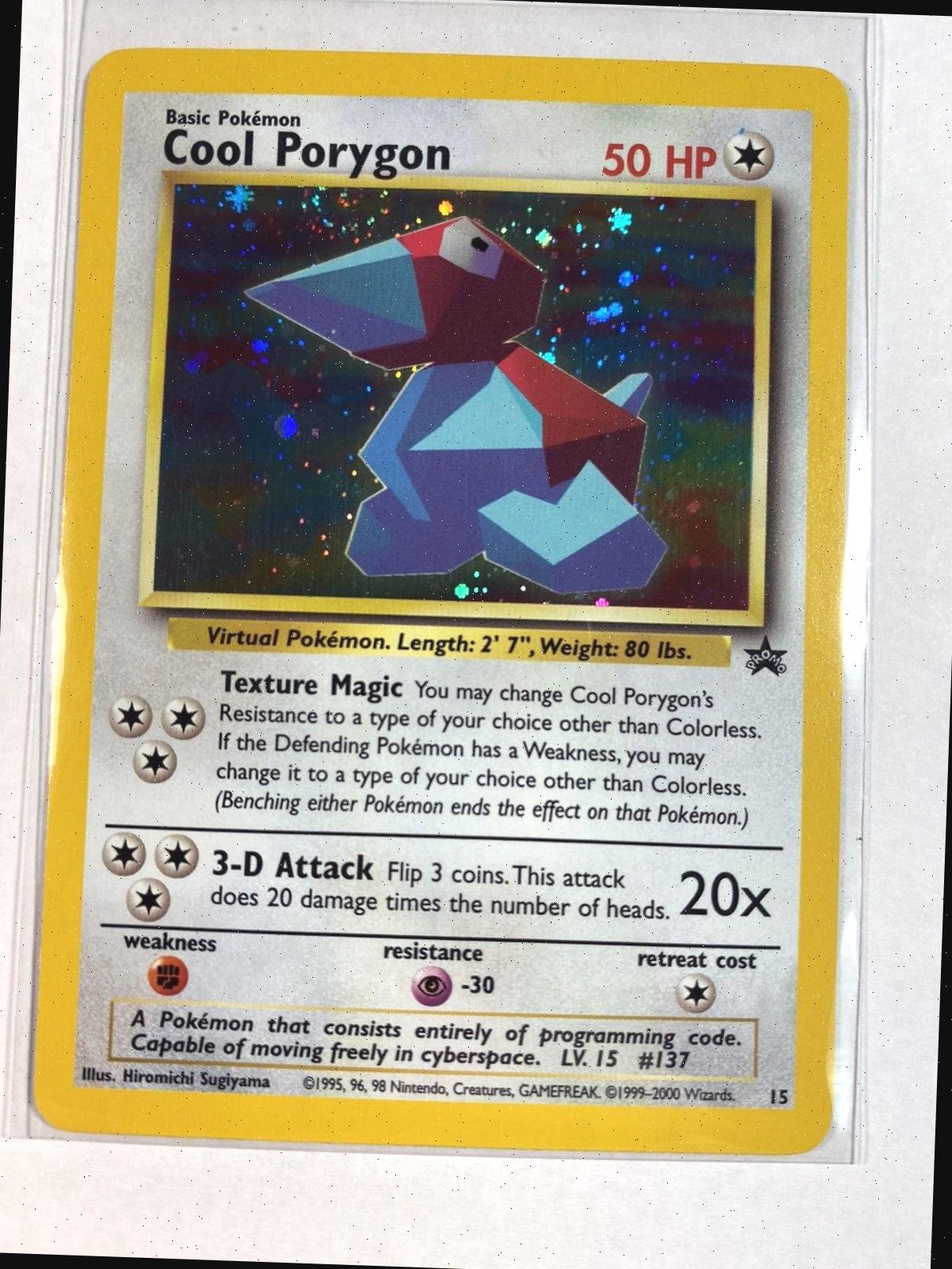card-2UtV: (31, 46, 850, 1156)
